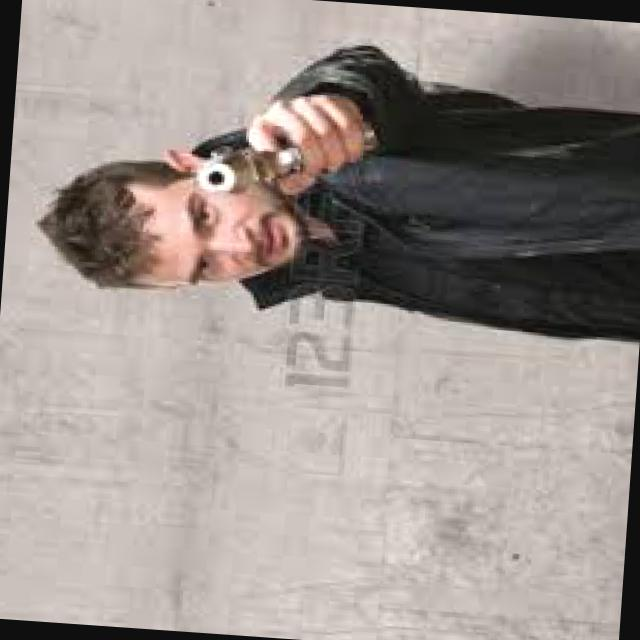handgun: (188, 110, 378, 204)
